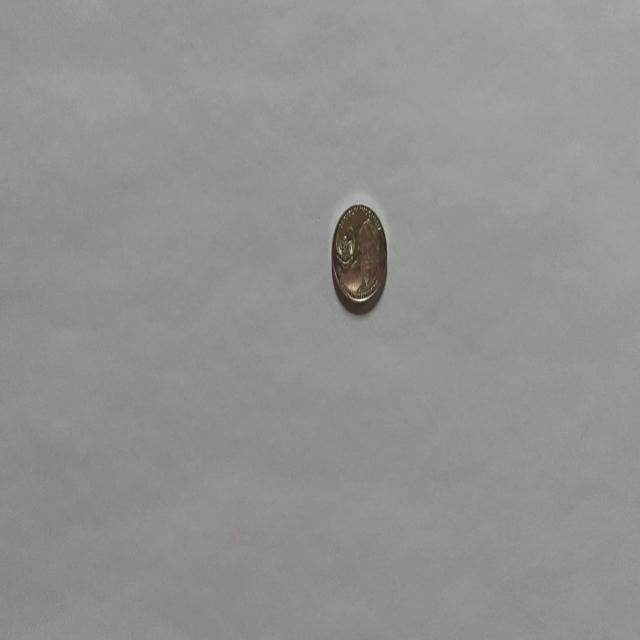dua ratus rupiah: (330, 202, 388, 308)
